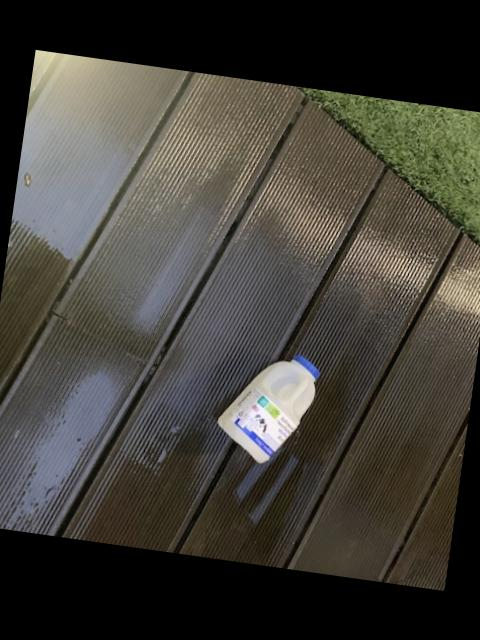plastic: (220, 356, 321, 463)
